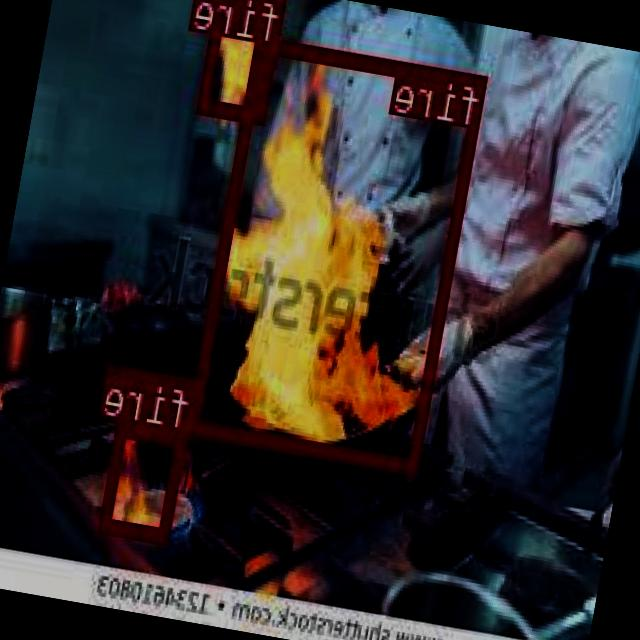fire: (190, 34, 490, 472), (199, 0, 289, 123), (100, 420, 189, 540)
